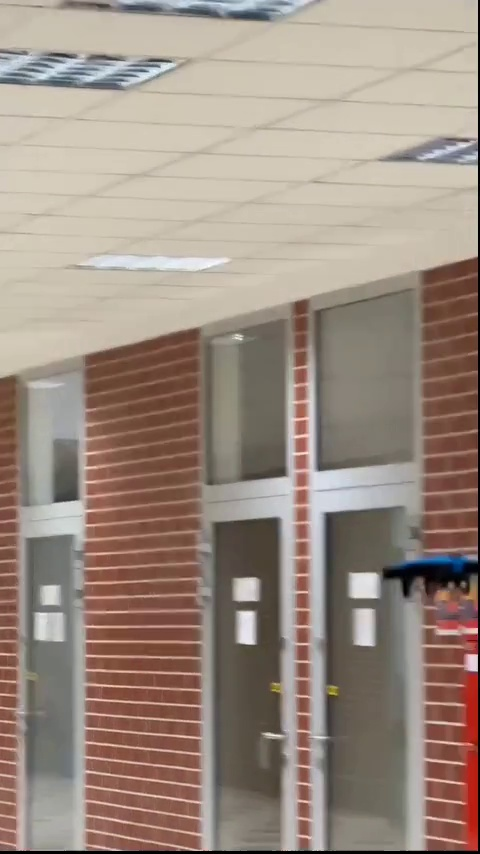drone: (380, 552, 480, 594)
